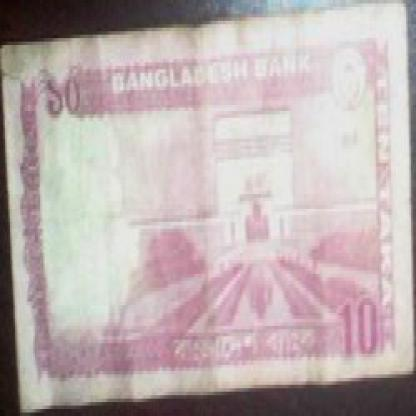Ten Taka: (336, 284, 388, 364), (36, 66, 86, 135)
